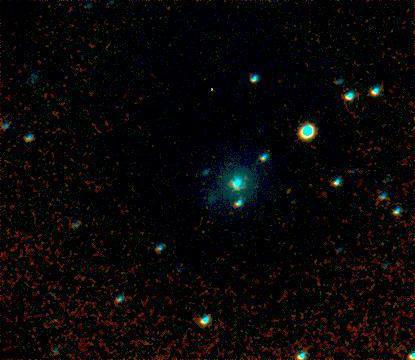star: (272, 175, 302, 205)
